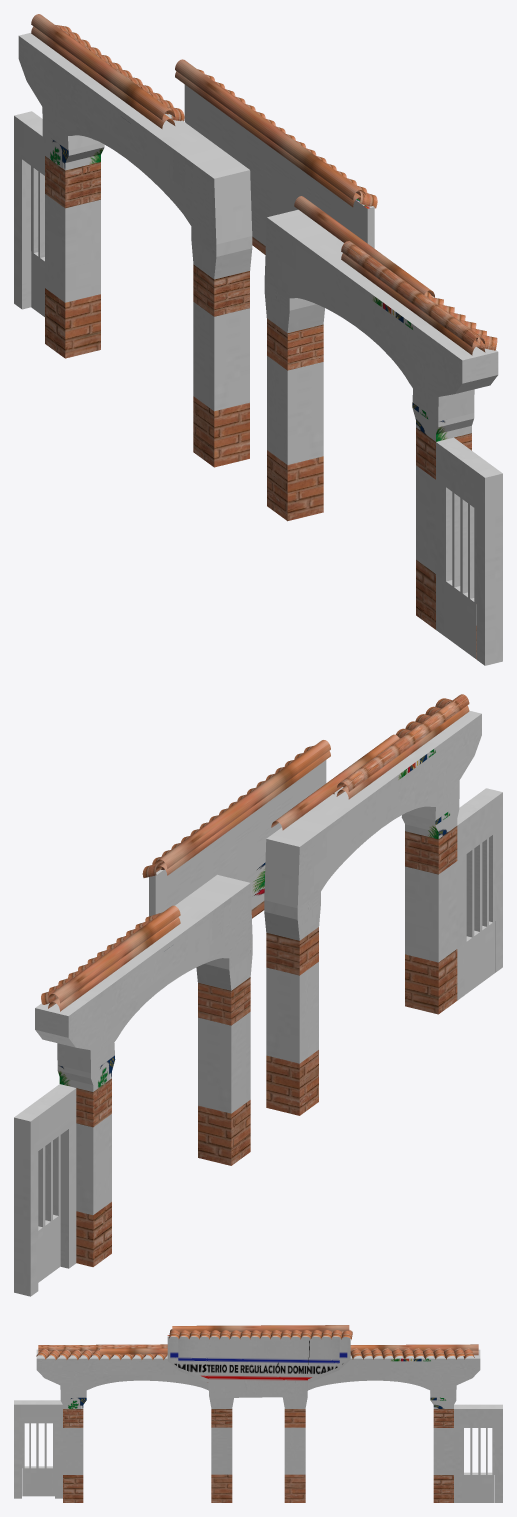
The model's file is uasdf1.fbx.
3 views of the same model, one above another, from view 1: azimuth 30°, elevation 25°; view 2: azimuth 150°, elevation 25°; view 3: azimuth 270°, elevation 25° (orthographic). The views are drawn at different scales.
Parts seen in each view (by area): view 1: Cube.001, Cube, Cylinder.001, Cube.002; view 2: Cube, Cube.001, Cylinder.001, Cube.002; view 3: Cube.001, Cube, Cube.002, Cylinder.001.
Boxes of the visible parts, box(x1,y1,x2,y2) form: Cube.001: box(14, 32, 252, 467); Cube: box(264, 209, 502, 665); Cylinder.001: box(31, 14, 497, 355); Cube.002: box(184, 84, 374, 254); Cube: box(264, 710, 502, 1115); Cube.001: box(14, 874, 252, 1296); Cylinder.001: box(41, 694, 469, 1011); Cube.002: box(149, 760, 326, 918); Cube.001: box(282, 1349, 502, 1502); Cube: box(14, 1349, 233, 1502); Cube.002: box(167, 1335, 350, 1398); Cylinder.001: box(36, 1325, 478, 1359).
Size of the model in its own units: 283 by 1878 by 4712.
